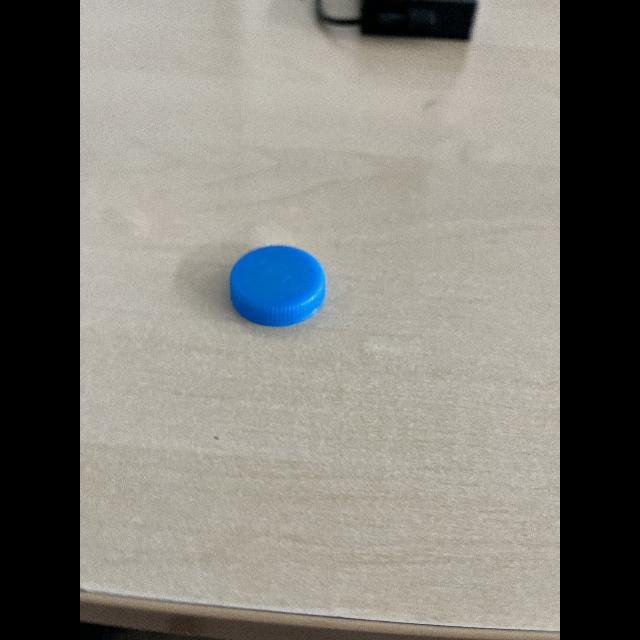plastic_bottle_cap: (225, 240, 328, 332)
